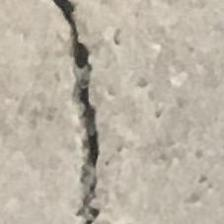Crack: (32, 0, 134, 224)
